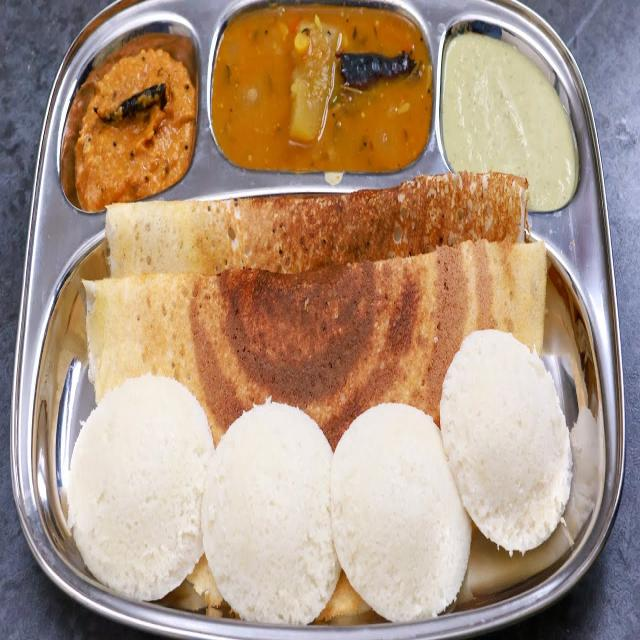idli: (194, 392, 342, 626), (71, 380, 211, 612), (326, 408, 474, 618), (441, 340, 572, 548)
plain dosa: (101, 176, 541, 347), (79, 267, 550, 409)
